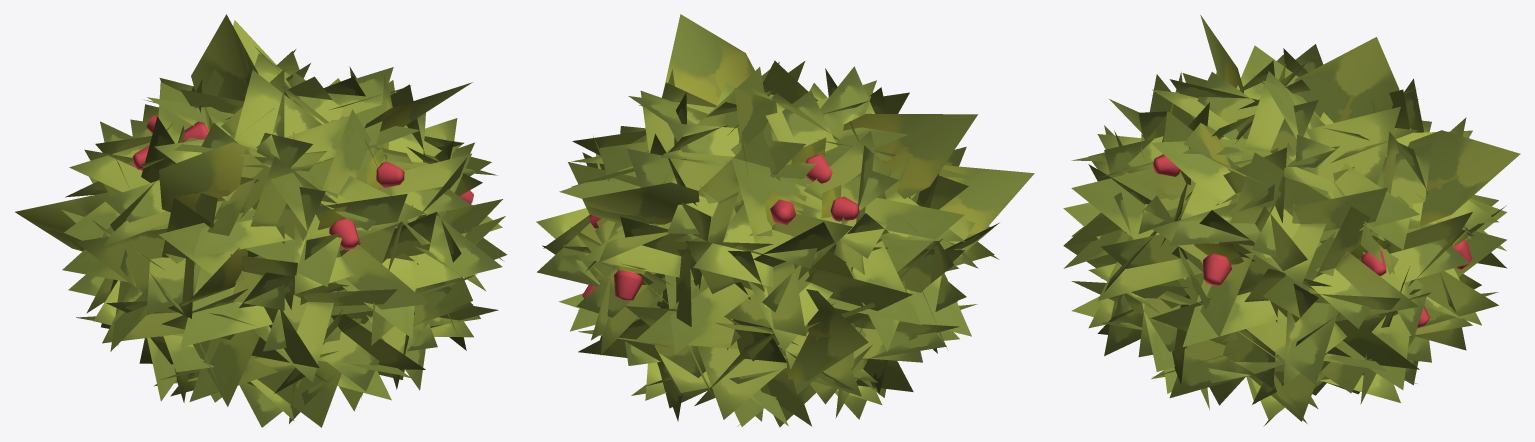
Rendered from Raspberry_Bush_2b.fbx.
The picture shows the model from 3 angles, left to right: view 1: azimuth 30°, elevation 25°; view 2: azimuth 150°, elevation 25°; view 3: azimuth 270°, elevation 25°; orthographic projection.
Visible parts, largest first — view 1: Raspberry_Bush_2b; view 2: Raspberry_Bush_2b; view 3: Raspberry_Bush_2b.
Boxes of the visible parts, box(x1,y1,x2,y2) form: Raspberry_Bush_2b: box(15, 14, 507, 427); Raspberry_Bush_2b: box(536, 14, 1034, 427); Raspberry_Bush_2b: box(1063, 15, 1520, 426).
Size of the model in its own units: 116 by 101 by 117.
1 material, 1 textured.
